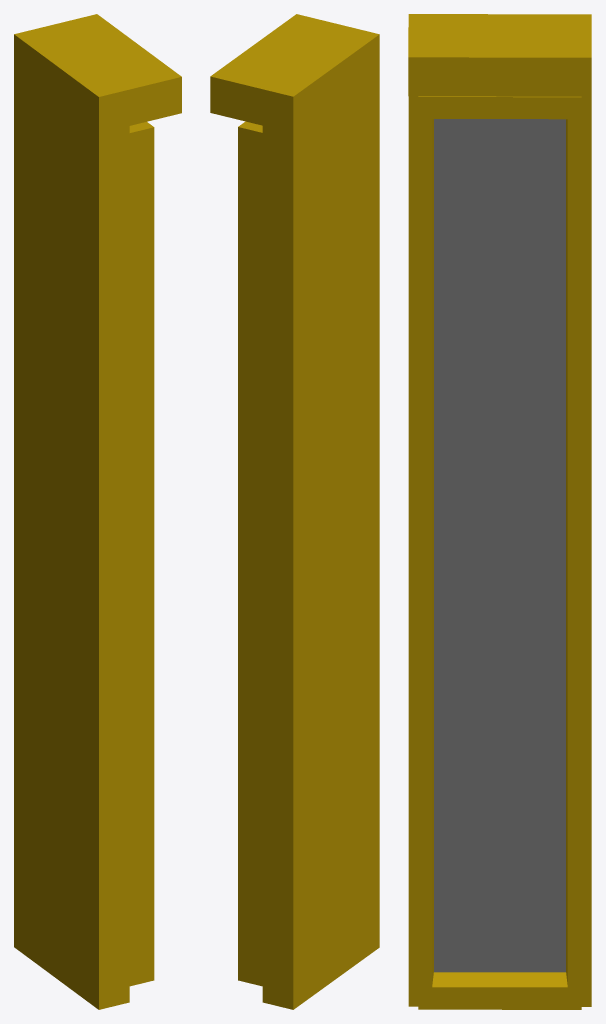
File: Fenster_Lang.obj
The picture shows the model from 3 angles, left to right: view 1: azimuth 30°, elevation 25°; view 2: azimuth 150°, elevation 25°; view 3: azimuth 270°, elevation 25°; orthographic projection. The views are drawn at different scales.
Visible parts, largest first — view 1: Fenster_Lang; view 2: Fenster_Lang; view 3: Fenster_Lang.
Part boxes in pixels (x1,y1,x2,y2): Fenster_Lang: (14,14,181,1009); Fenster_Lang: (210,14,379,1009); Fenster_Lang: (408,14,591,1009).
Bounding box in the file's own units: 17.2 × 179 × 30.41.
